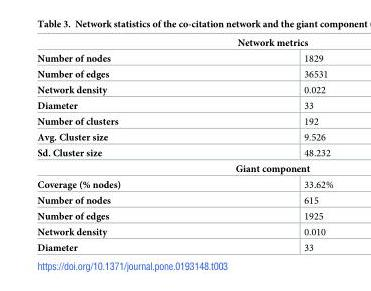table: (36, 37, 332, 252)
table column: (36, 37, 211, 252), (211, 37, 332, 252)
table projected row header: (36, 160, 332, 176), (36, 37, 332, 50)
table row: (36, 50, 332, 66), (36, 81, 332, 97), (36, 97, 332, 113), (36, 113, 332, 129), (36, 144, 332, 160), (36, 160, 332, 176), (36, 176, 332, 192), (36, 192, 332, 208), (36, 223, 332, 239), (36, 66, 332, 81), (36, 129, 332, 144), (36, 208, 332, 223), (36, 37, 332, 50), (36, 239, 332, 252)
